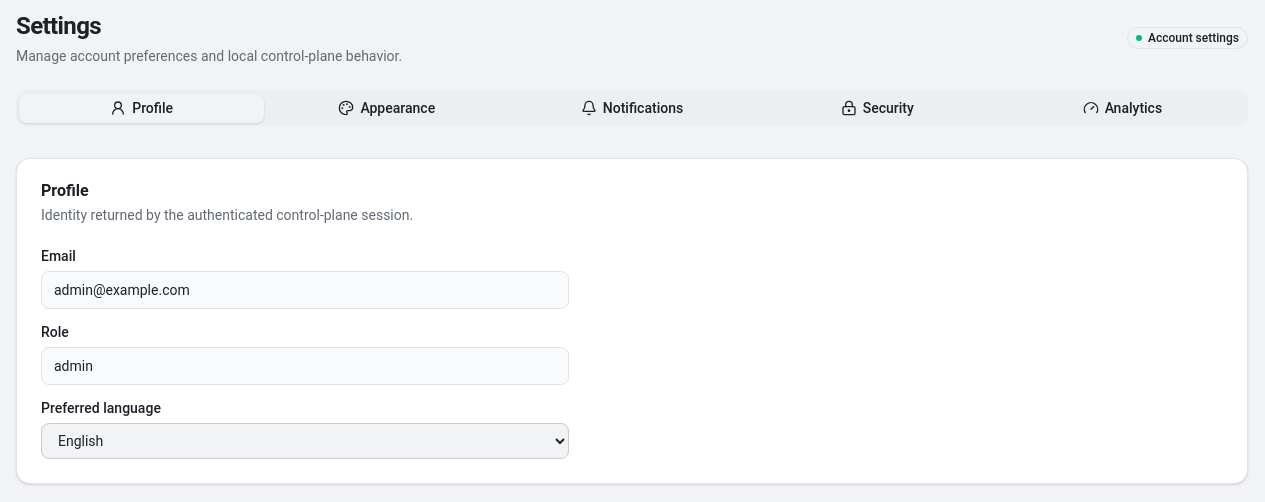
account settings › opens the existing session administration screen
Press the mouse on the tab "Security" at {"x": 877, "y": 108}, box [755,94,1000,122]
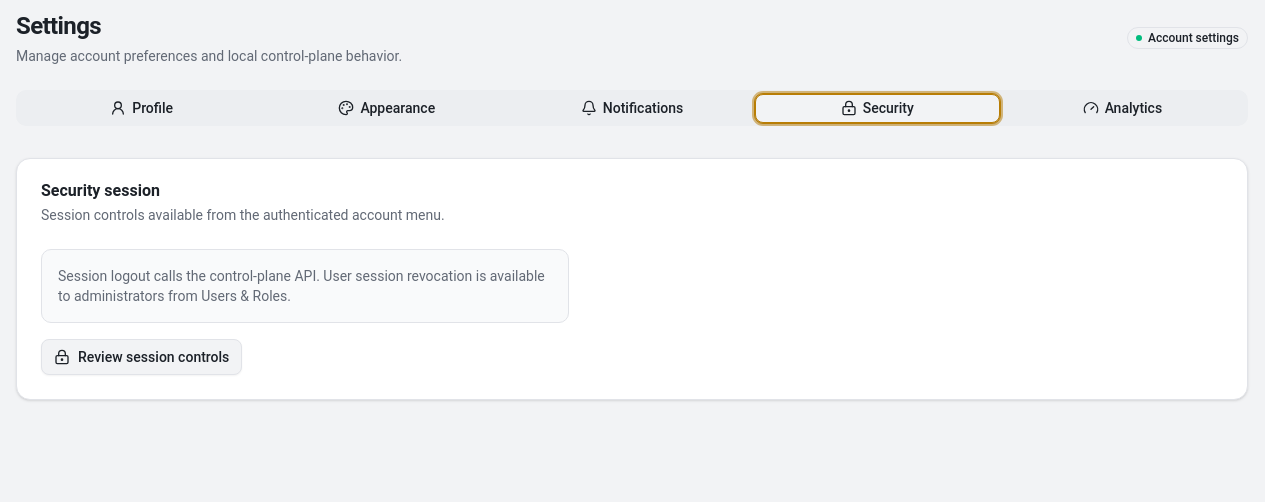
Now the link to "/users" reads "Review session controls", box [41,339,242,375]
